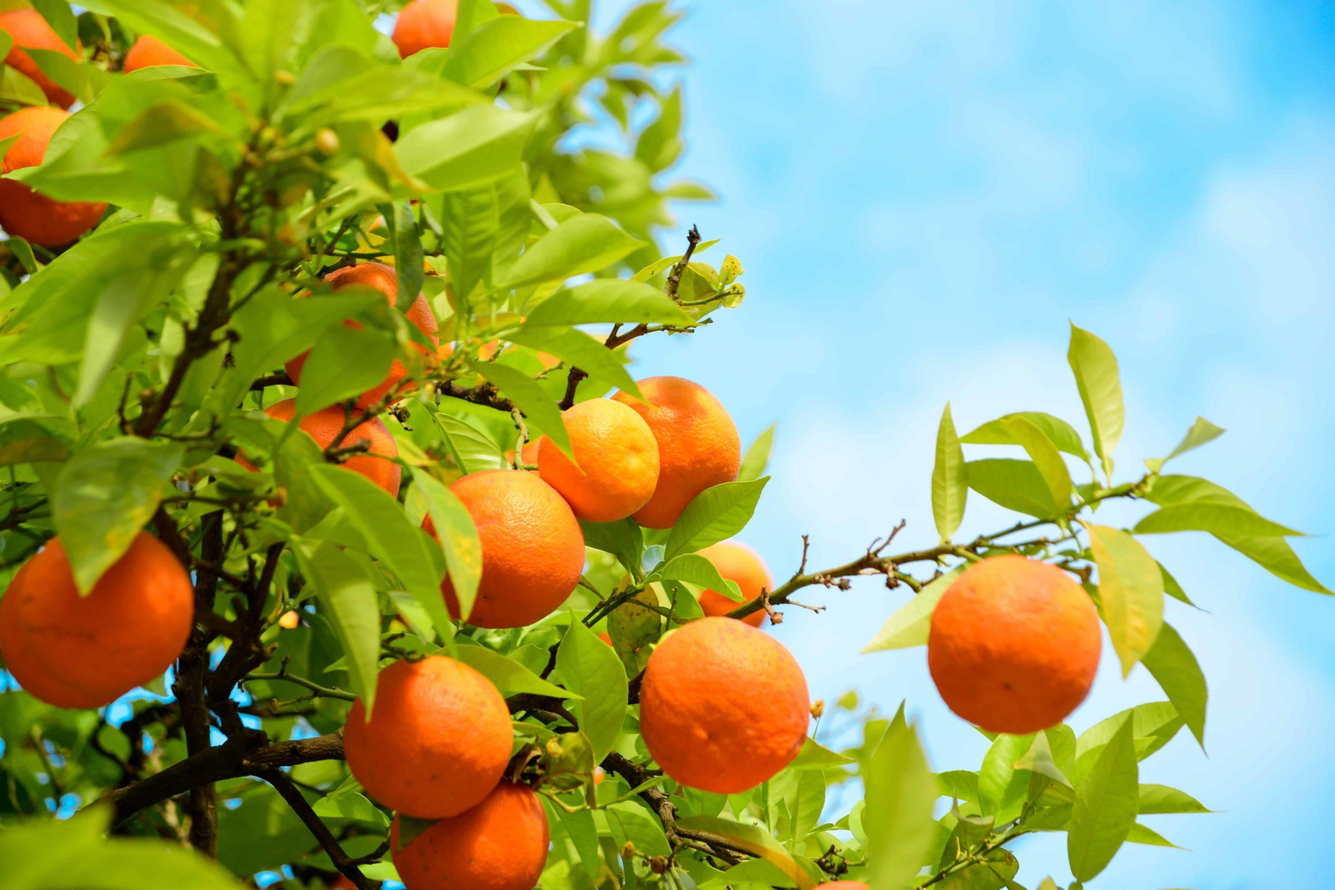orange: (8, 524, 208, 698), (635, 614, 832, 782), (950, 564, 1132, 736), (341, 651, 520, 811), (428, 460, 589, 618), (633, 341, 764, 530), (392, 779, 585, 890), (529, 399, 649, 517)
